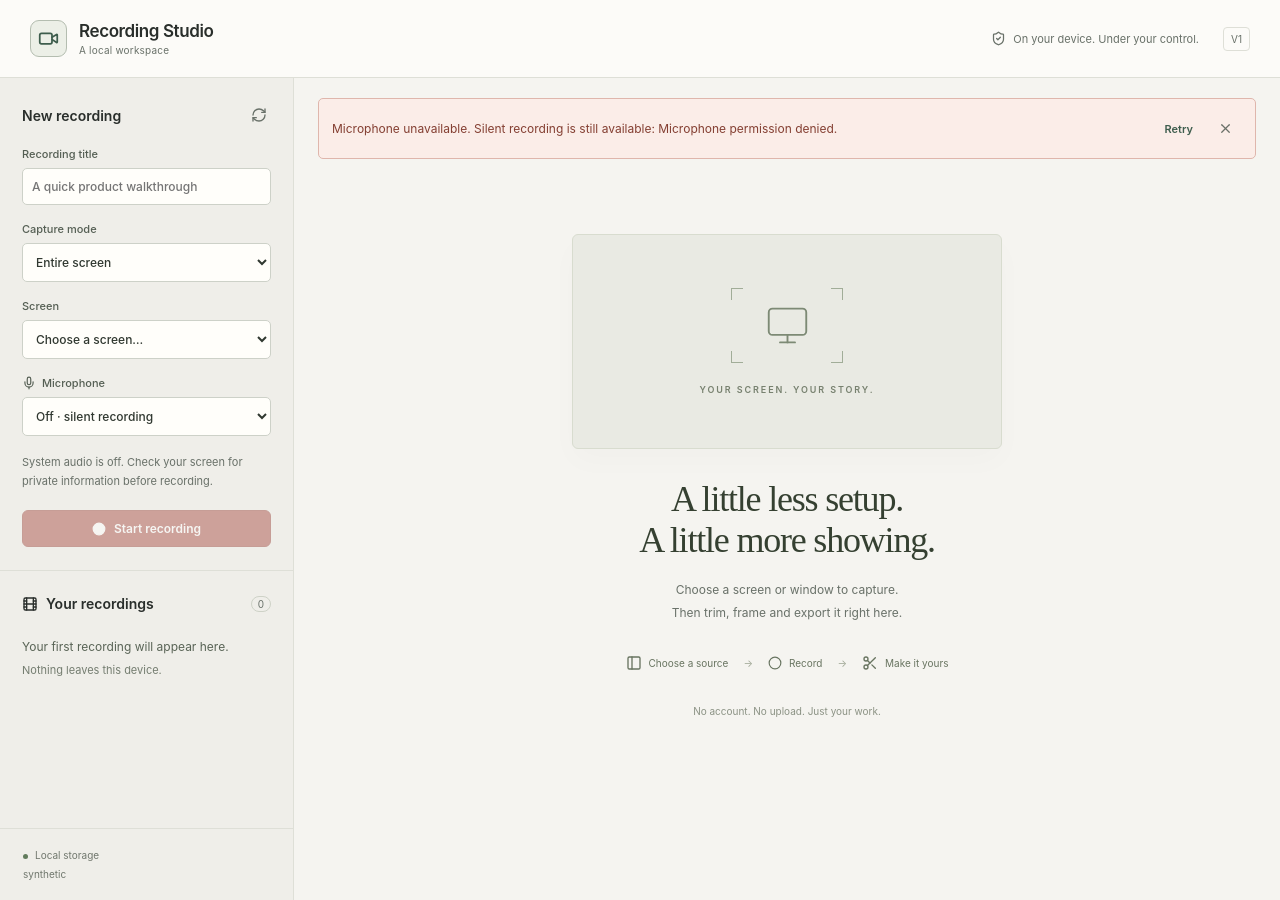
Test: Recording Studio › allows silent capture when microphone enumeration fails
Select "Synthetic display · 1920 × 1080" in the dropdown labelled "Screen" at (146, 340), box [22,320,271,359]
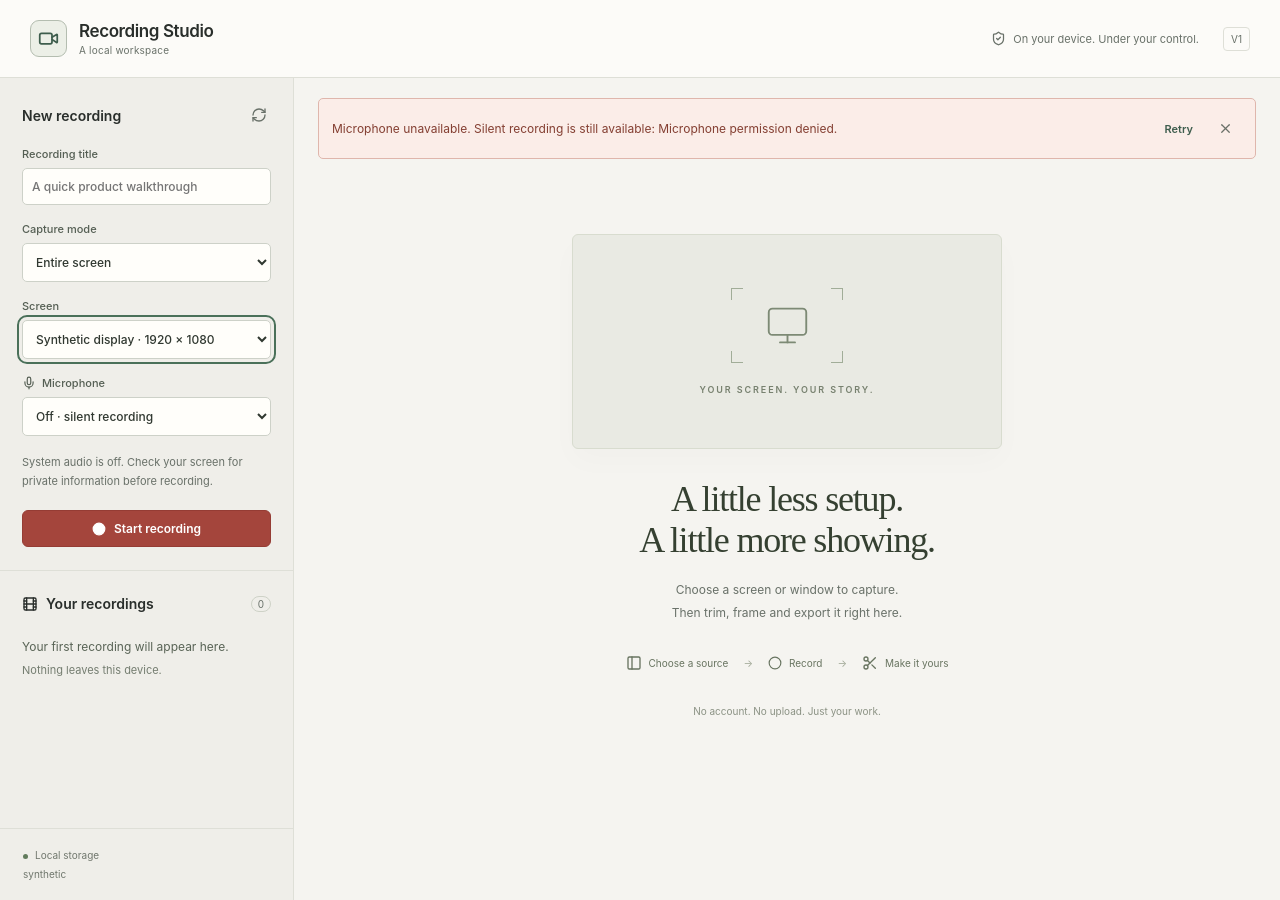
Check: the text "Microphone unavailable" is shown, box [332,121,837,136]
Check: the button "Start recording" is enabled, box [22,510,271,547]
